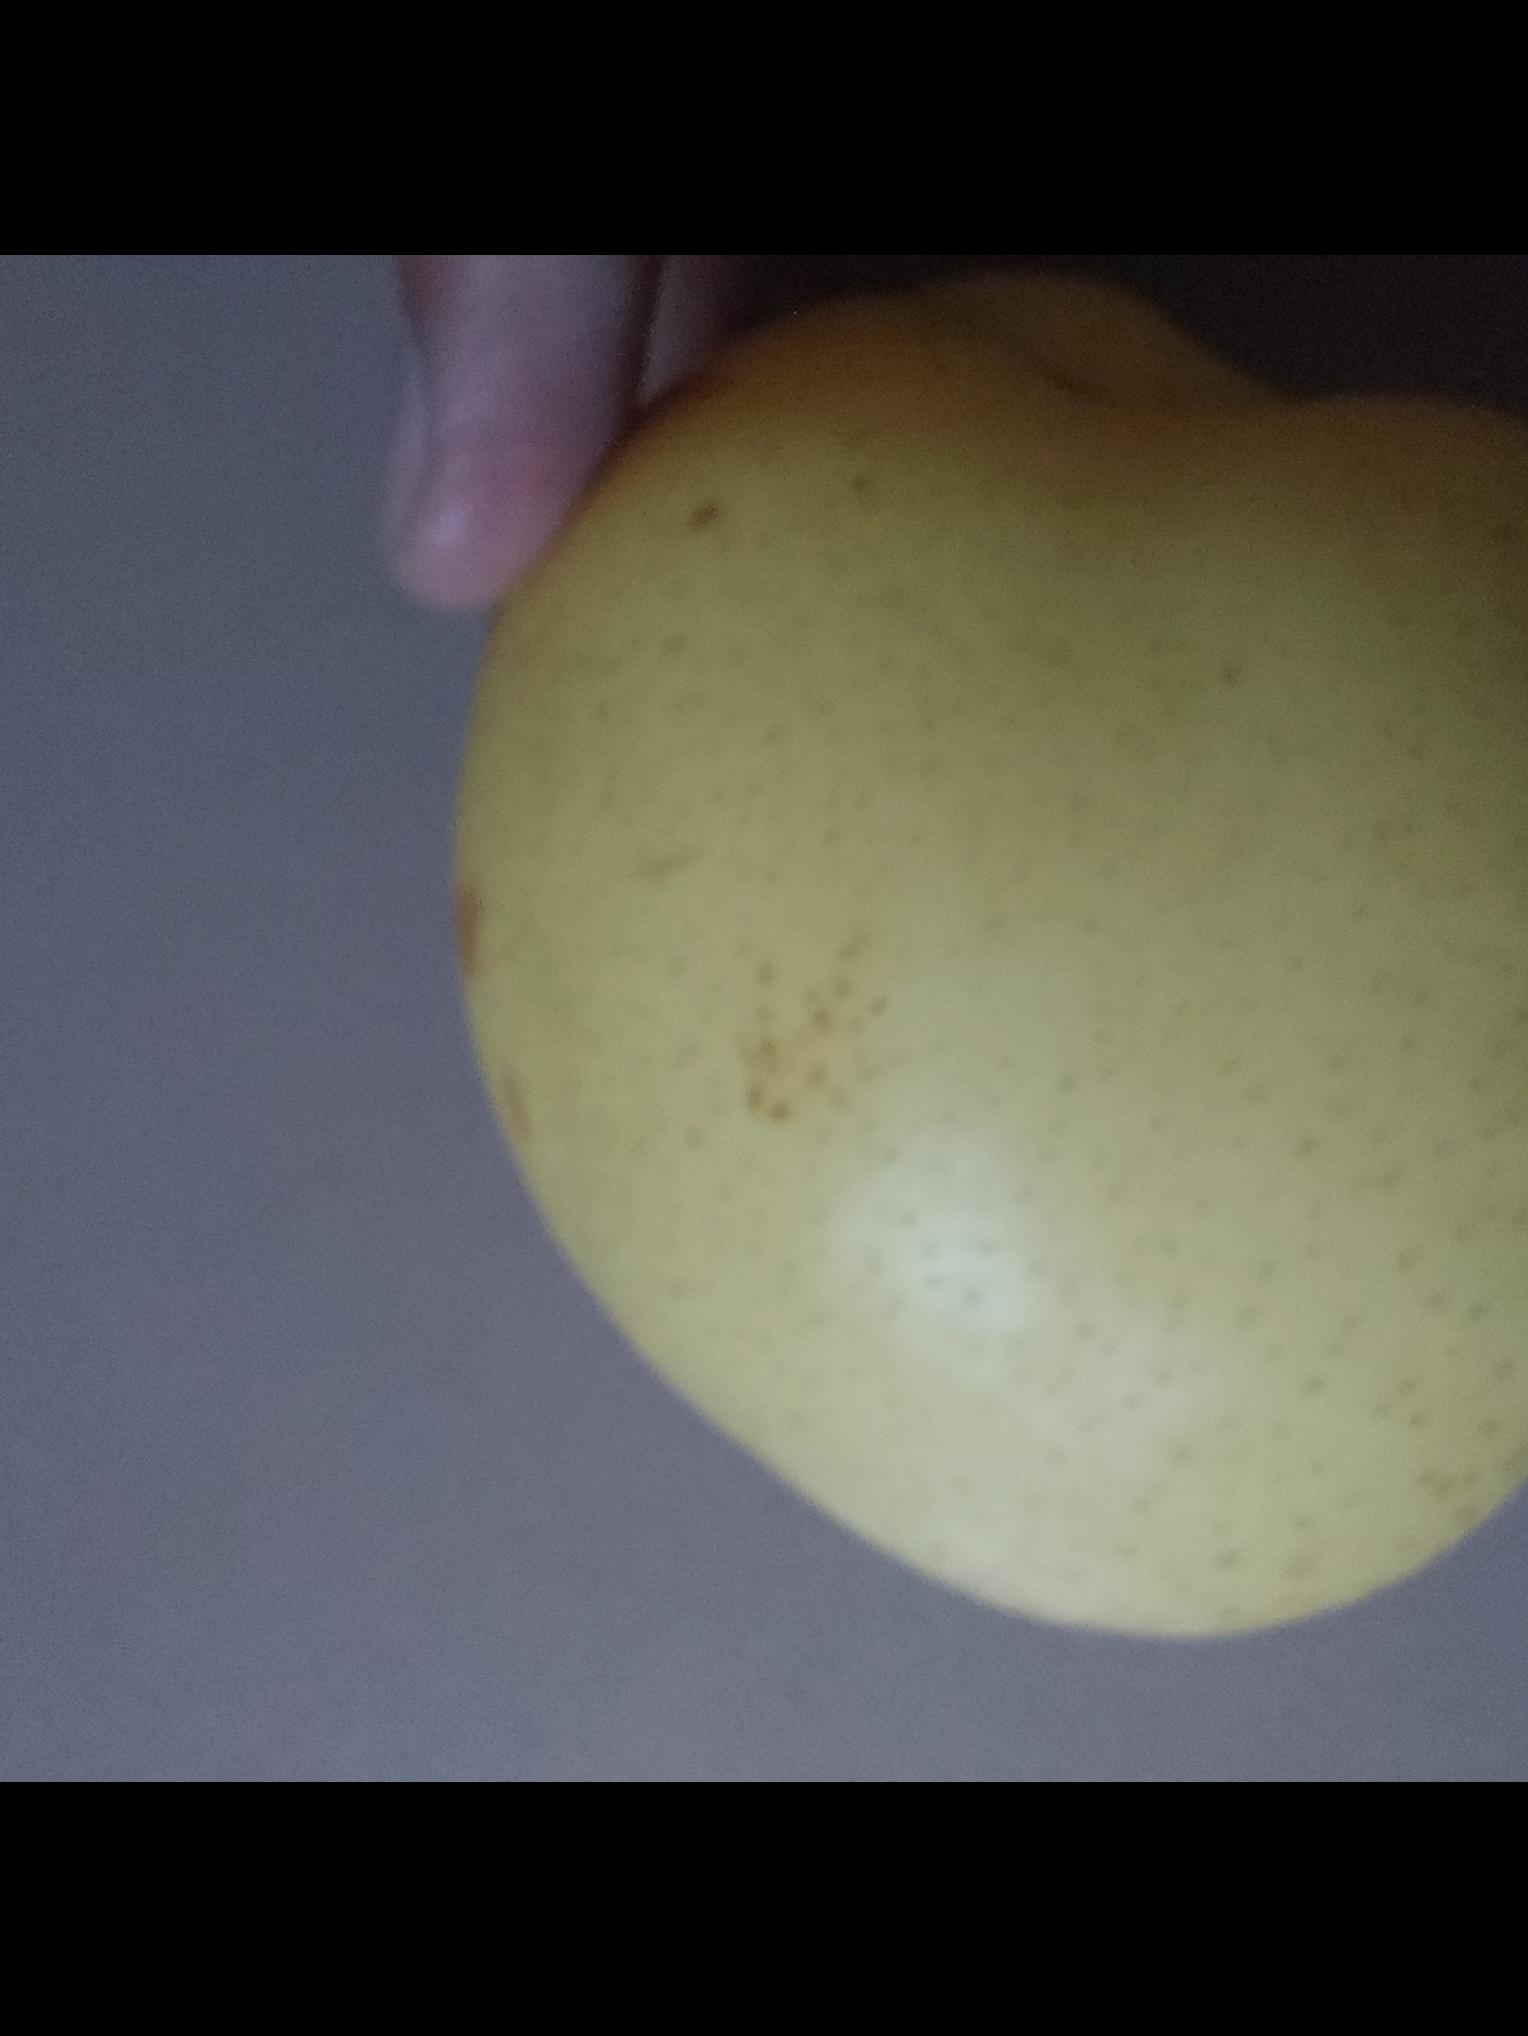Good Pear: (437, 292, 1528, 1652)
